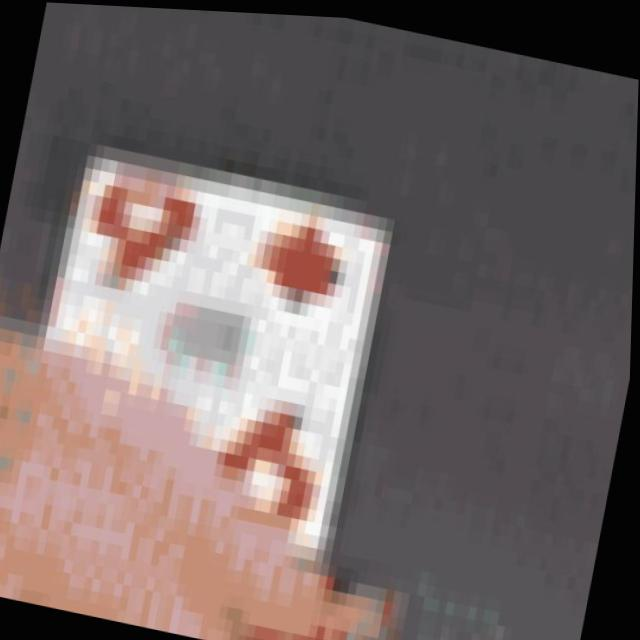Card-9: (49, 150, 396, 567)
